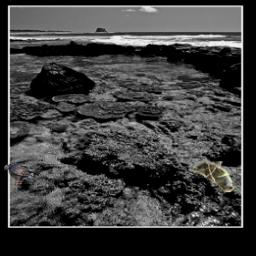Crow: (4, 164, 33, 185)
Cuckoo: (188, 161, 237, 192)
